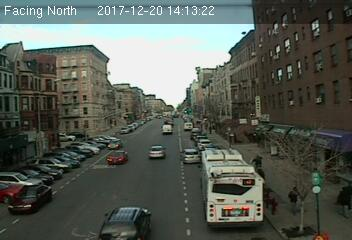bus: (198, 147, 263, 226)
car: (98, 205, 152, 240), (6, 184, 53, 213), (106, 150, 128, 165), (181, 148, 201, 163), (147, 145, 165, 161), (107, 139, 123, 151)
pedestrian: (289, 184, 301, 220)
truck: (161, 123, 172, 135)
